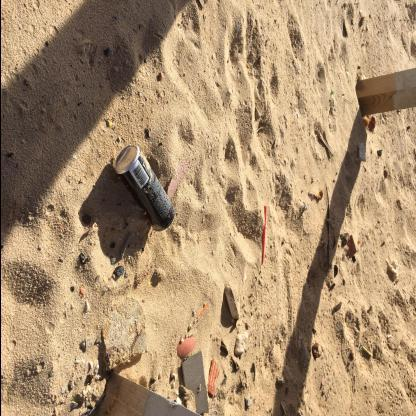metal: (115, 146, 175, 234)
